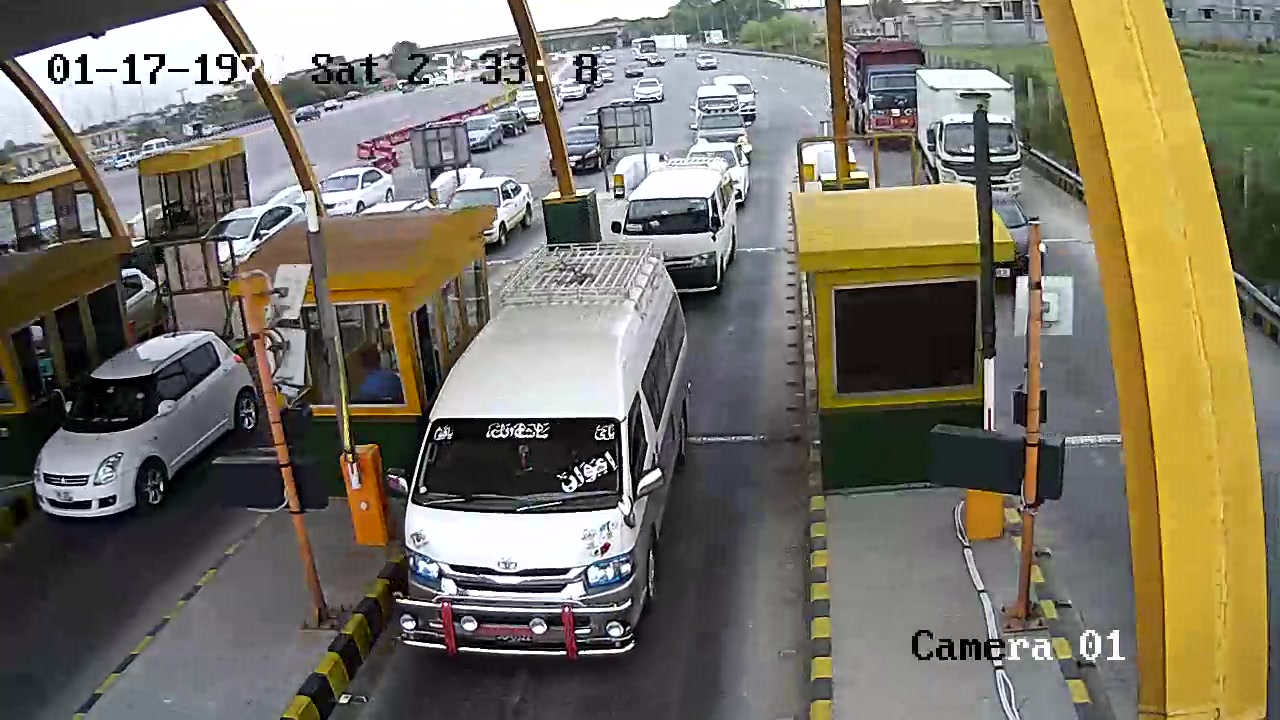F3: (388, 243, 699, 663)
